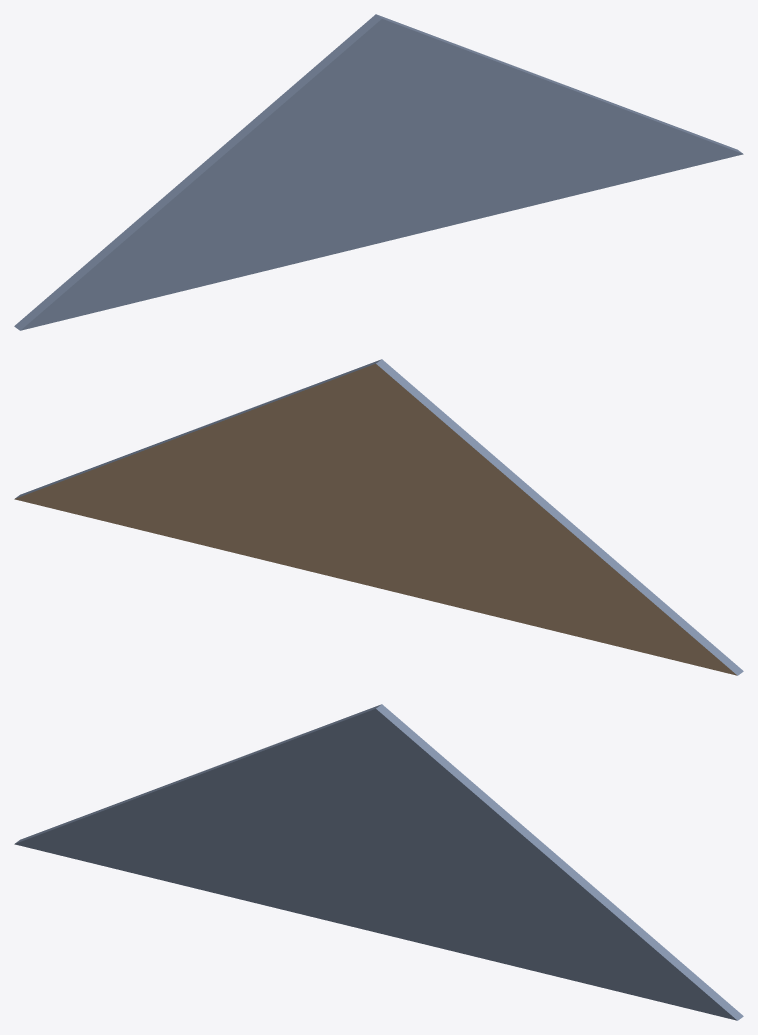
Rendered from Wall2_C3_20.fbx.
3 renders of one model, top to bottom at view 1: azimuth 30°, elevation 25°; view 2: azimuth 150°, elevation 25°; view 3: azimuth 330°, elevation 25°, orthographic.
Parts seen in each view (by area): view 1: Wall2_C3_20; view 2: Wall2_C3_20; view 3: Wall2_C3_20.
Boxes of the visible parts, left/top/right/bottom form: Wall2_C3_20: left=14, top=14, right=743, bottom=330; Wall2_C3_20: left=14, top=359, right=743, bottom=675; Wall2_C3_20: left=14, top=704, right=743, bottom=1020.
Bounding box in the file's own units: 1015 × 300 × 15.
